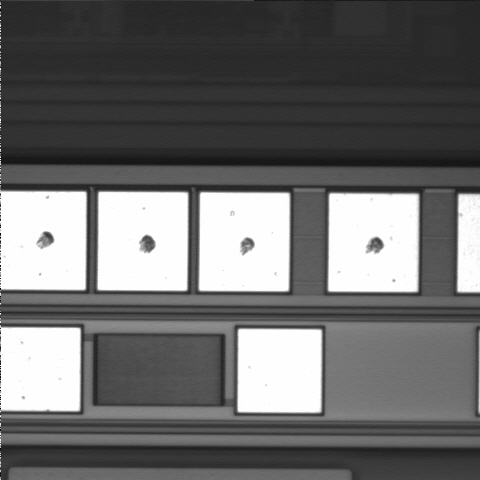pad: (199, 192, 290, 291), (98, 192, 188, 291), (328, 193, 418, 292), (238, 329, 322, 413)
